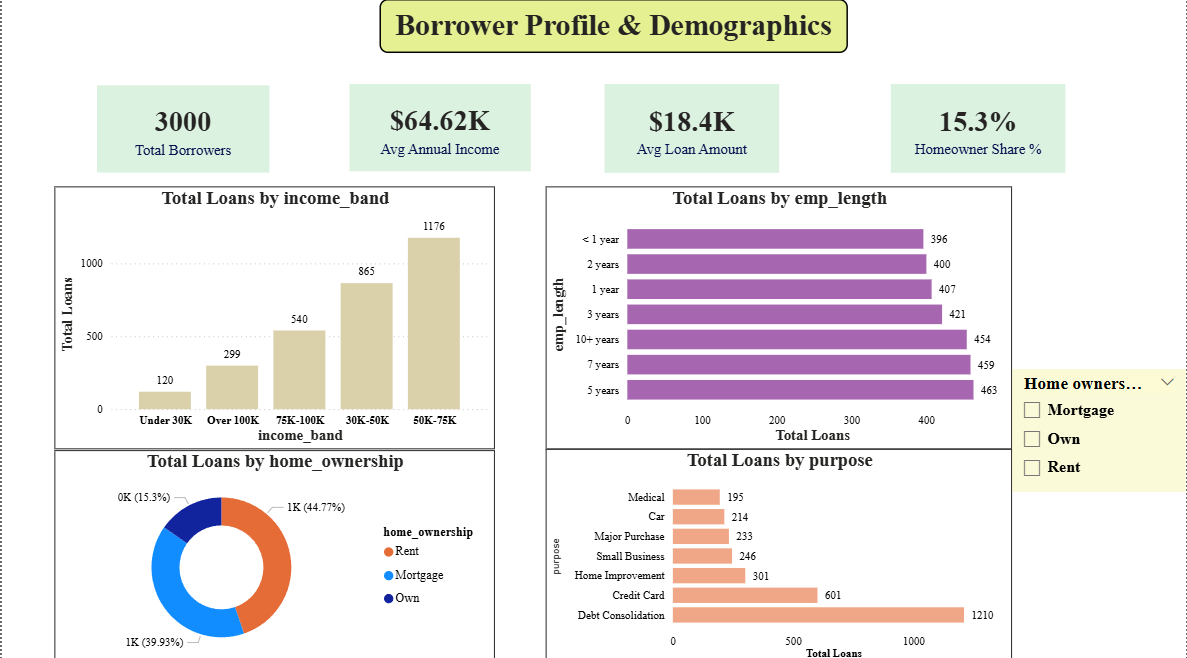

The page's visual inventory and layout, read from the dashboard file:
{"tool":"powerbi","page":{"name":"Borrower Profile","canvas":[1280,720],"ordinal":1},"visuals":[{"type":"card","fields":{"Values":["Loan Detail.Total Borrowers"]},"box":[102.7,93.2,186.5,94.6],"z":0},{"type":"card","fields":{"Values":["Loan Detail.Avg Annual Income"]},"box":[375.7,91.9,195.9,94.6],"z":1000},{"type":"card","fields":{"Values":["Loan Detail.Avg Loan Amount"]},"box":[651.4,91.9,189.2,95.9],"z":2000},{"type":"card","fields":{"Values":["Loan Detail.Homeowner Share %"]},"box":[960.8,91.9,189.2,95.9],"z":3000},{"type":"clusteredColumnChart","fields":{"Category":["Loan Detail.income_band"],"Y":["_Measures.Total Loans"]},"box":[56.8,202.7,475.7,283.8],"z":4000},{"type":"donutChart","fields":{"Y":["_Measures.Total Loans"],"Category":["Loan Detail.home_ownership"]},"box":[56.8,487.8,475.7,232.4],"z":5000},{"type":"clusteredBarChart","fields":{"Category":["Loan Detail.emp_length"],"Y":["_Measures.Total Loans"]},"box":[587.8,202.7,504.1,283.8],"z":6000},{"type":"clusteredBarChart","fields":{"Y":["_Measures.Total Loans"],"Category":["Loan Detail.purpose"]},"box":[587.8,486.5,504.1,233.8],"z":7000},{"type":"slicer","fields":{"Values":["Loan Detail.home_ownership"]},"box":[1091.9,400,187.8,132.4],"z":8000},{"type":"textbox","box":[408.1,0,506.8,58.1],"z":9000}]}

Visuals, with their boxes in screenshot pixels (x1, y1, x2, y2), scaled from the page's 1280x720 canvas onto the 1187x658 screenshot:
card - Loan Detail.Total Borrowers: [left=95, top=85, right=268, bottom=172]
card - Loan Detail.Avg Annual Income: [left=348, top=84, right=530, bottom=170]
card - Loan Detail.Avg Loan Amount: [left=604, top=84, right=780, bottom=172]
card - Loan Detail.Homeowner Share %: [left=891, top=84, right=1066, bottom=172]
clusteredColumnChart - Loan Detail.income_band x _Measures.Total Loans: [left=53, top=185, right=494, bottom=445]
donutChart - _Measures.Total Loans x Loan Detail.home_ownership: [left=53, top=446, right=494, bottom=657]
clusteredBarChart - Loan Detail.emp_length x _Measures.Total Loans: [left=545, top=185, right=1013, bottom=445]
clusteredBarChart - _Measures.Total Loans x Loan Detail.purpose: [left=545, top=445, right=1013, bottom=657]
slicer - Loan Detail.home_ownership: [left=1013, top=366, right=1186, bottom=487]
textbox: [left=378, top=0, right=848, bottom=53]
